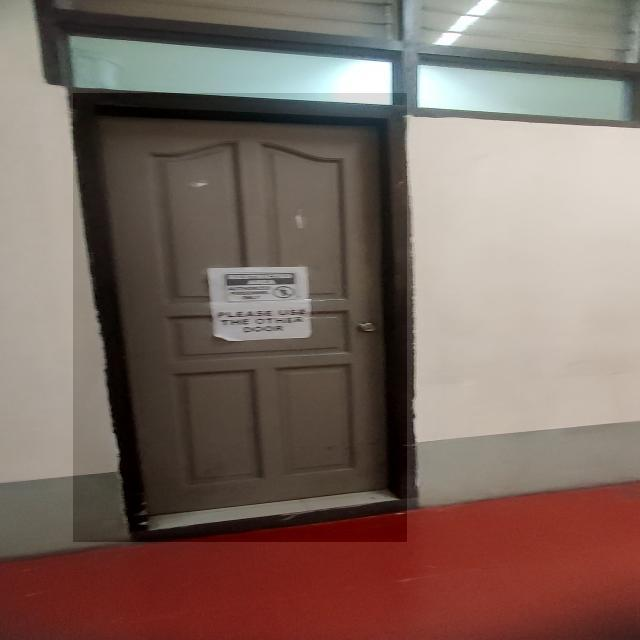door: (73, 55, 447, 542)
